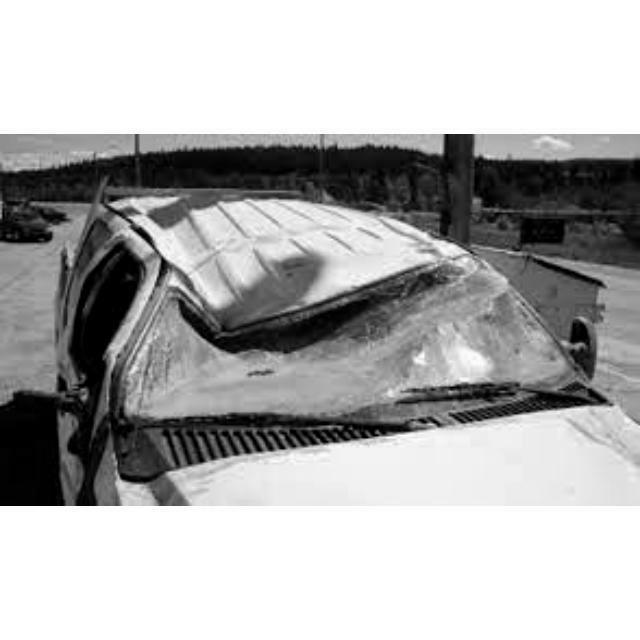Front-windscreen-damage: (120, 252, 555, 428)
roof-dent: (97, 165, 462, 323)
